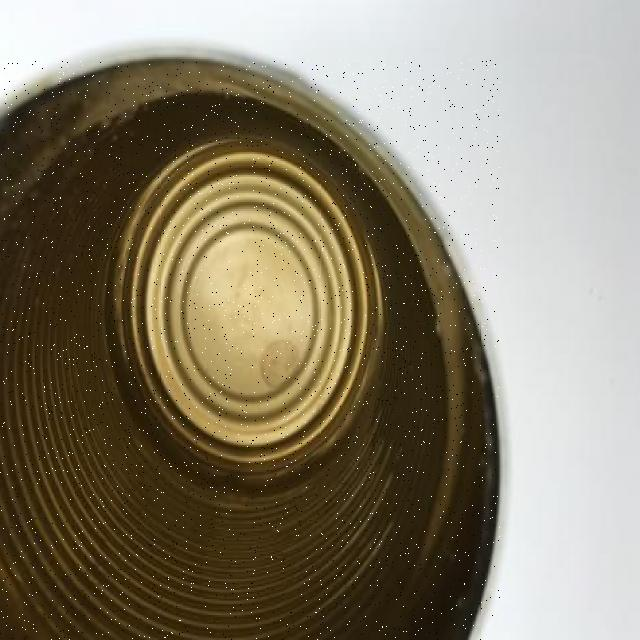metal: (0, 60, 500, 640)
